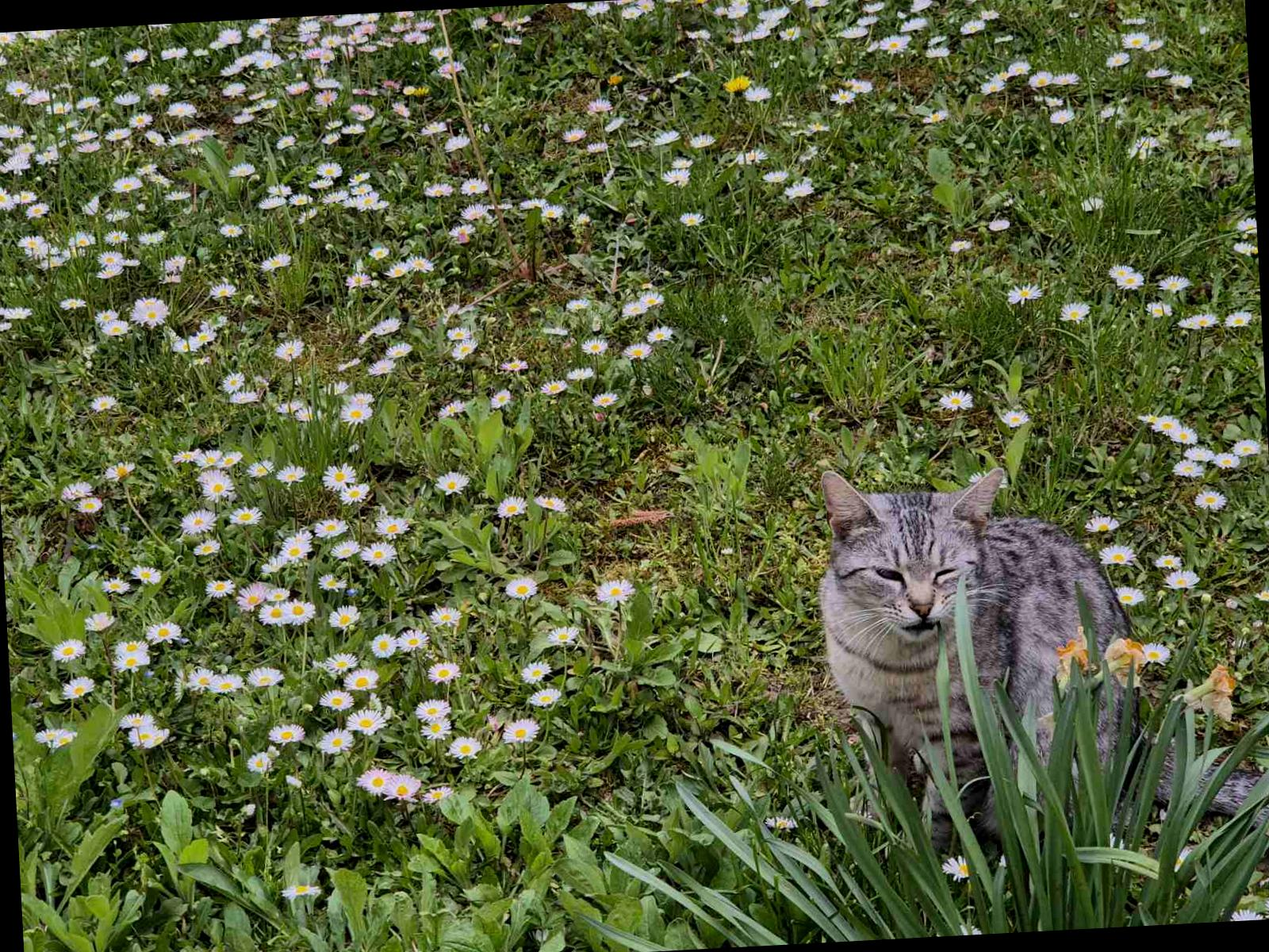macka: (814, 447, 1269, 869)
